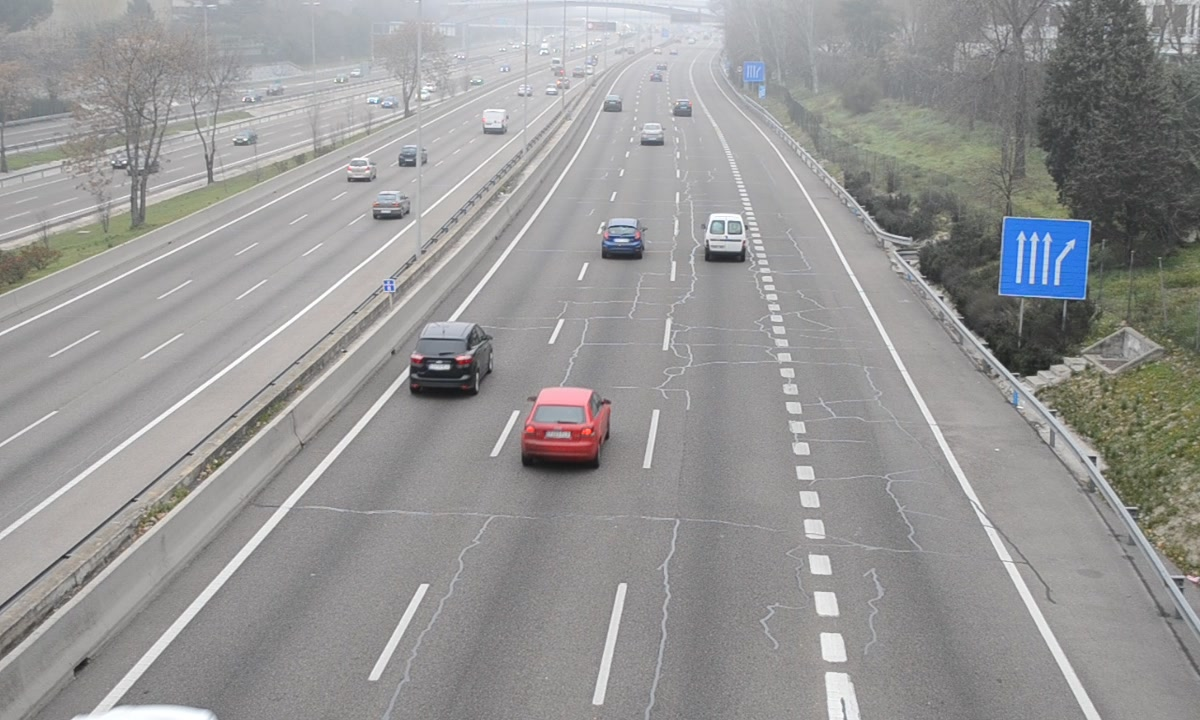car: (522, 387, 609, 465), (412, 321, 492, 393), (601, 218, 644, 259), (639, 122, 665, 146)
van: (704, 213, 747, 259)
